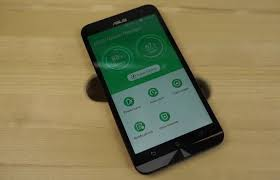asus: (76, 4, 228, 176)
